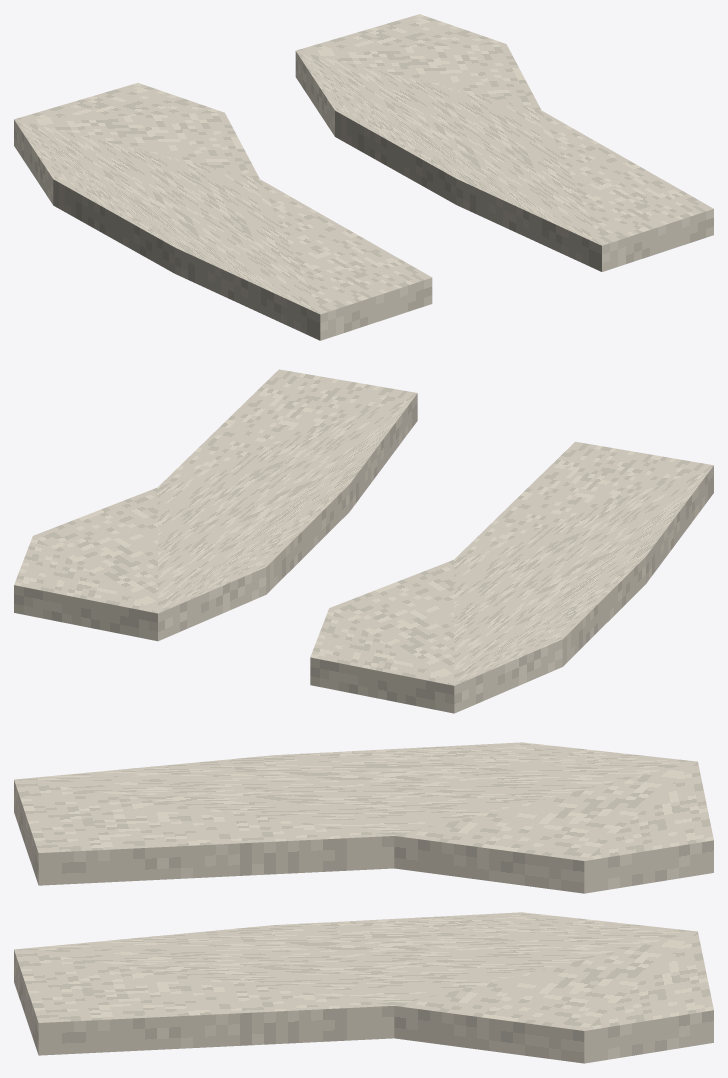
File: socks_bowling.glb
3 renders of one model, top to bottom at view 1: azimuth 30°, elevation 25°; view 2: azimuth 150°, elevation 25°; view 3: azimuth 270°, elevation 25°, orthographic. The views are drawn at different scales.
Visible parts, largest first — view 1: block_flat disposable sock (×2); view 2: block_flat disposable sock (×2); view 3: block_flat disposable sock (×2).
Boxes of the visible parts, x1,y1,x2,y2 form: block_flat disposable sock (×2): (14, 14, 713, 340); block_flat disposable sock (×2): (14, 369, 713, 713); block_flat disposable sock (×2): (14, 742, 713, 1063).
Size of the model in its own units: 0.1635 by 0.0086 by 0.1676.
1 material, 1 textured.
